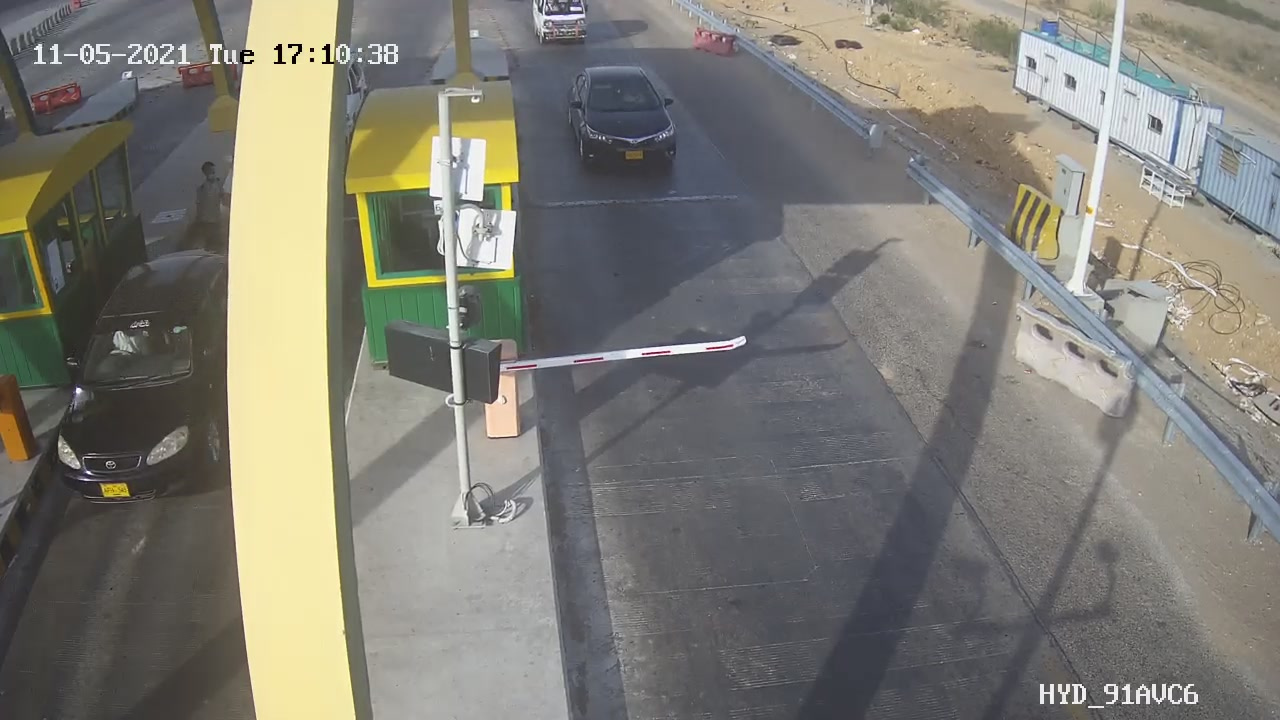F1: (552, 53, 694, 191)
